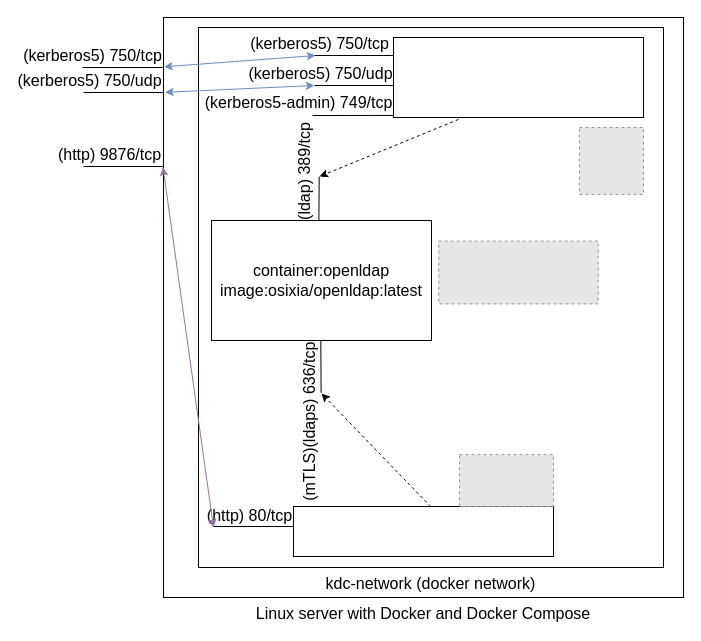
This 701x641 diagram has some shape labels left out. Grey dashed boxes stand in for pictures. The shapes that lost their labels are listed below. From the top down, each one's centre as x and y in pixels, then its label:
At point 518,77: "container:kdc image:chistousov/kerberos5:1.0.0".
At point 423,531: "container:openldap-phpldapadmin image:osixia/phpldapadmin:latest".
